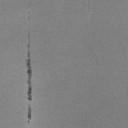slag inclusion: (25, 32, 33, 101), (27, 105, 32, 124)
